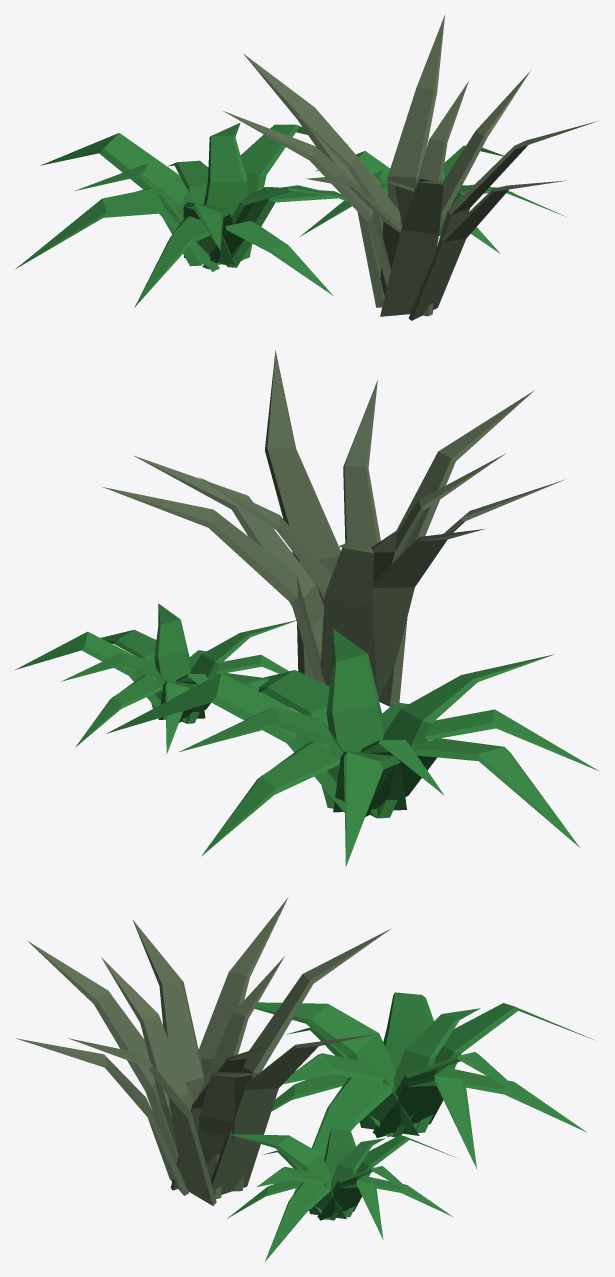
The model's file is grasssss.fbx.
3 renders of one model, top to bottom at view 1: azimuth 30°, elevation 25°; view 2: azimuth 150°, elevation 25°; view 3: azimuth 270°, elevation 25°, orthographic. The views are drawn at different scales.
Visible parts, largest first — view 1: Grass_bush_high_01, Grass_bush_low_01, Grass_bush_low_01.001; view 2: Grass_bush_high_01, Grass_bush_low_01, Grass_bush_low_01.001; view 3: Grass_bush_high_01, Grass_bush_low_01, Grass_bush_low_01.001.
Part boxes in pixels (left/top/right/bottom): Grass_bush_high_01: left=222, top=15, right=597, bottom=320; Grass_bush_low_01: left=14, top=122, right=348, bottom=307; Grass_bush_low_01.001: left=300, top=145, right=565, bottom=253; Grass_bush_high_01: left=102, top=350, right=564, bottom=706; Grass_bush_low_01: left=106, top=629, right=599, bottom=866; Grass_bush_low_01.001: left=15, top=603, right=296, bottom=754; Grass_bush_high_01: left=16, top=897, right=391, bottom=1205; Grass_bush_low_01: left=254, top=992, right=593, bottom=1193; Grass_bush_low_01.001: left=227, top=1128, right=456, bottom=1261.
Bounding box in the file's own units: 441 × 182 × 443.
